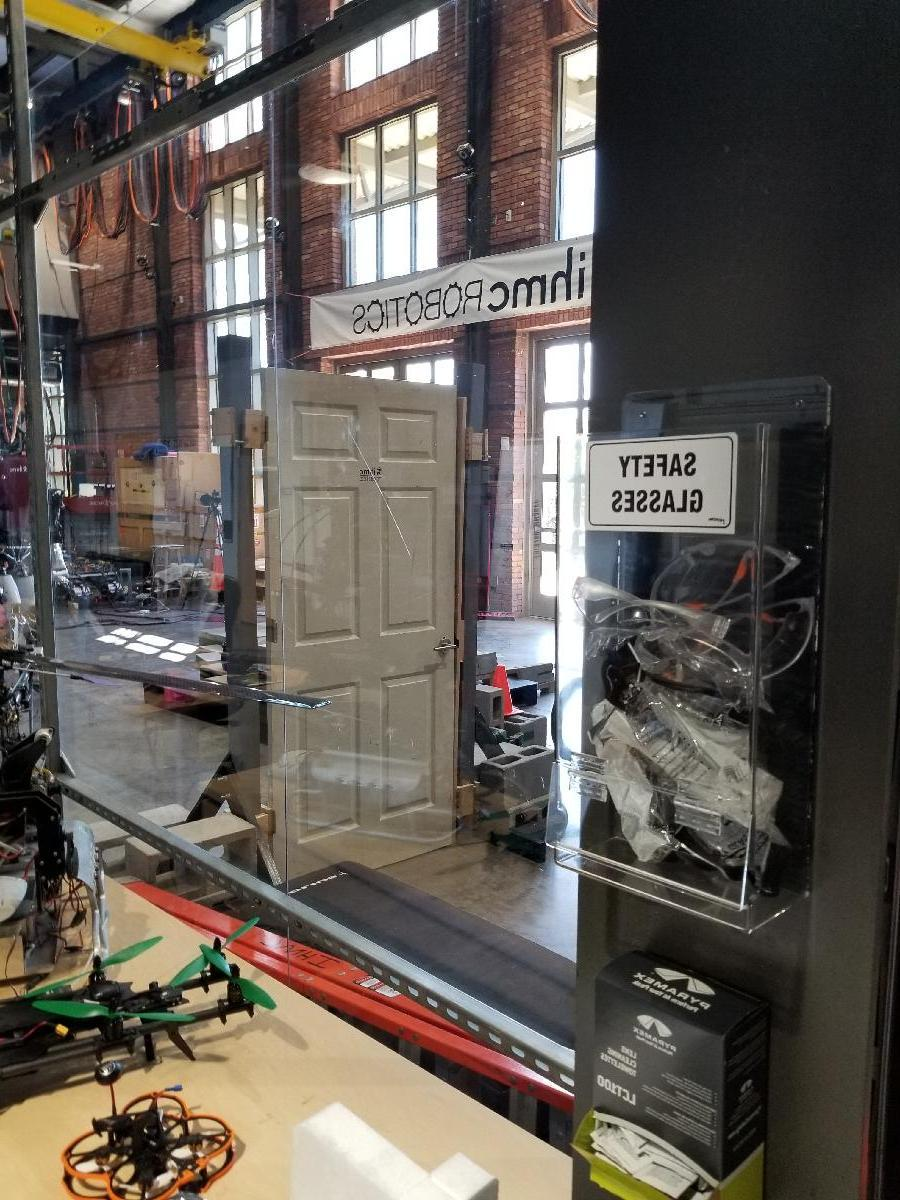door: (262, 373, 462, 883)
handle: (432, 636, 454, 662)
